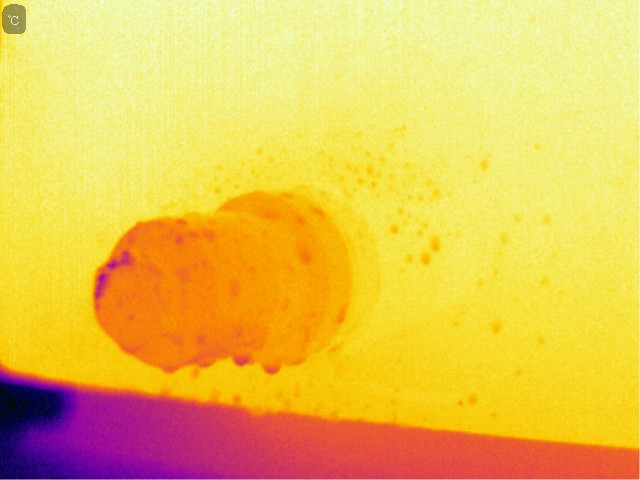Water: (232, 349, 256, 370), (296, 242, 314, 265), (262, 359, 285, 376), (195, 352, 219, 368), (333, 302, 347, 325), (417, 246, 431, 266), (425, 233, 440, 251), (160, 361, 180, 374), (173, 216, 193, 229), (310, 203, 324, 220)
